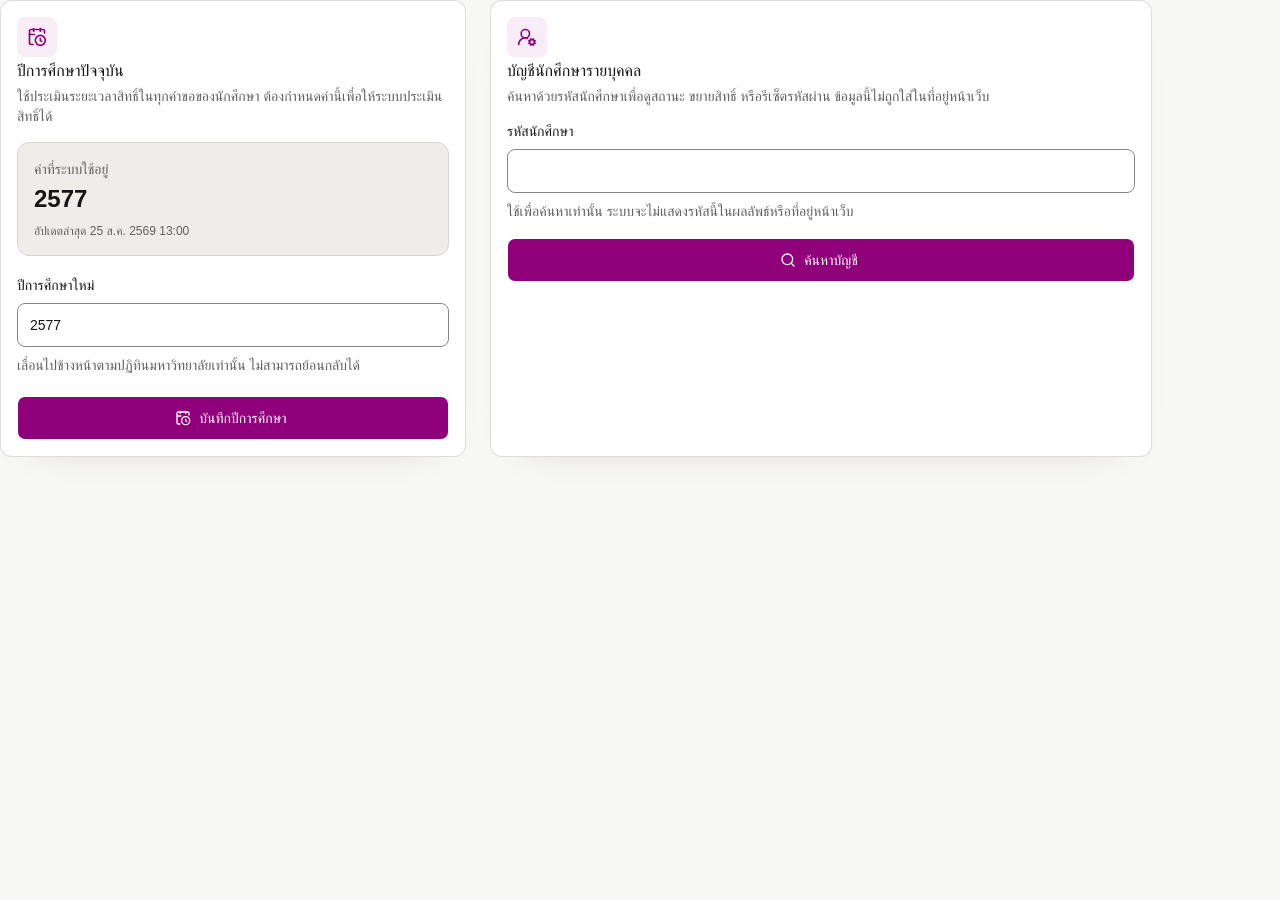
Test: Admin Account controls panel › shows a successful temporary password once as durable copyable text
Type "69000001" into the field labelled "รหัสนักศึกษา" at (821, 171), box [507, 149, 1135, 193]
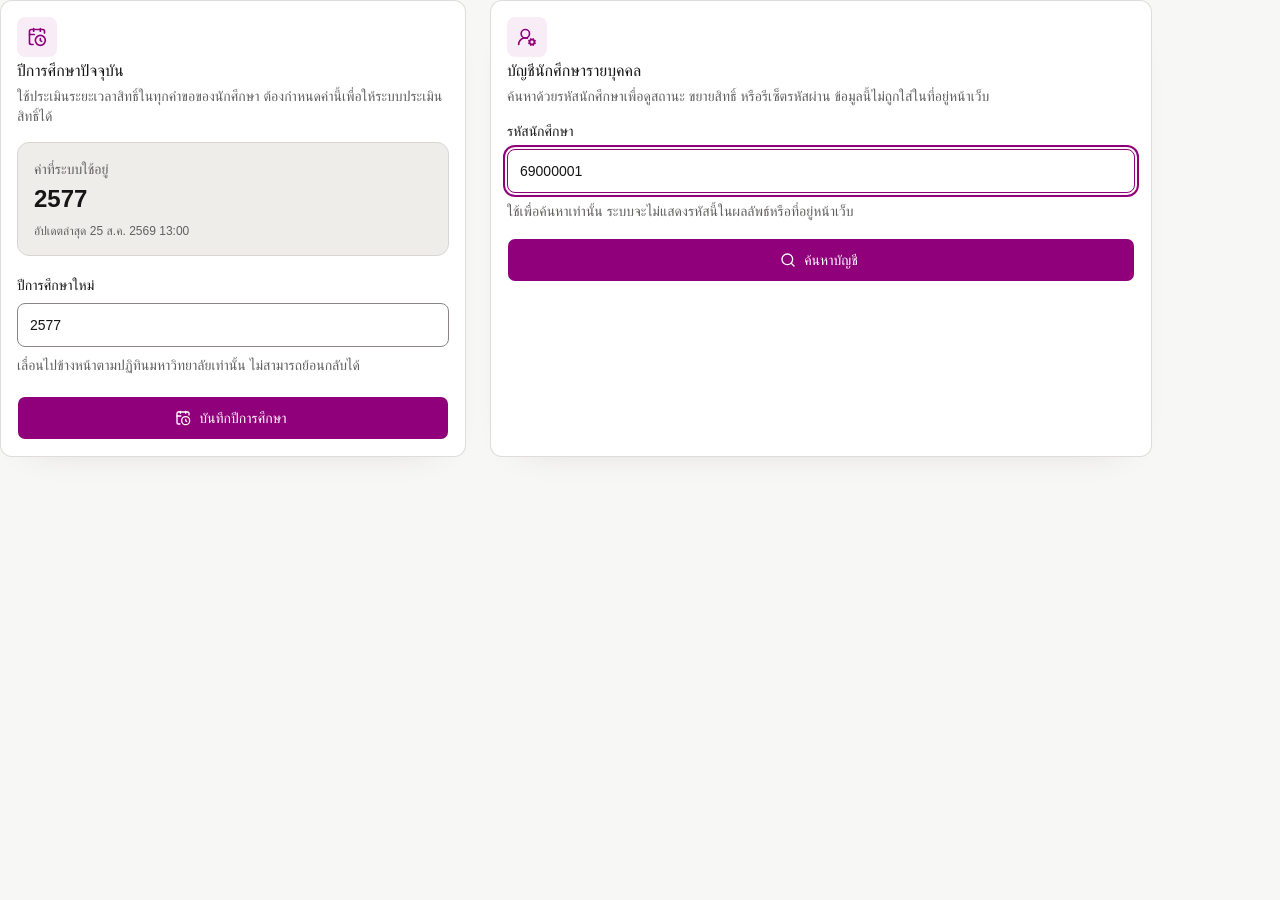
Click the button "ค้นหาบัญชี" at (821, 260), box [507, 238, 1135, 282]
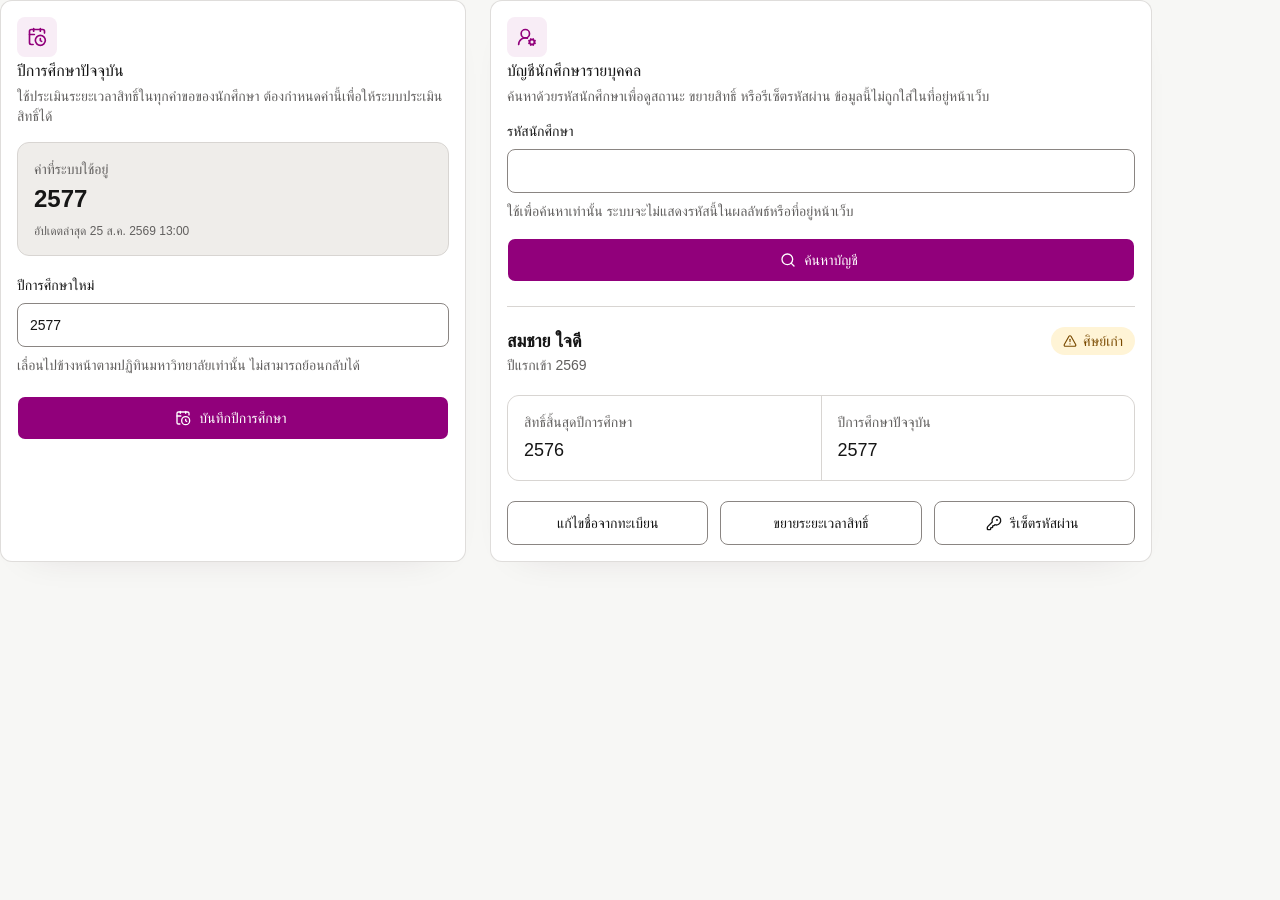
Click the button "รีเซ็ตรหัสผ่าน" at (1034, 523), box [934, 501, 1135, 545]
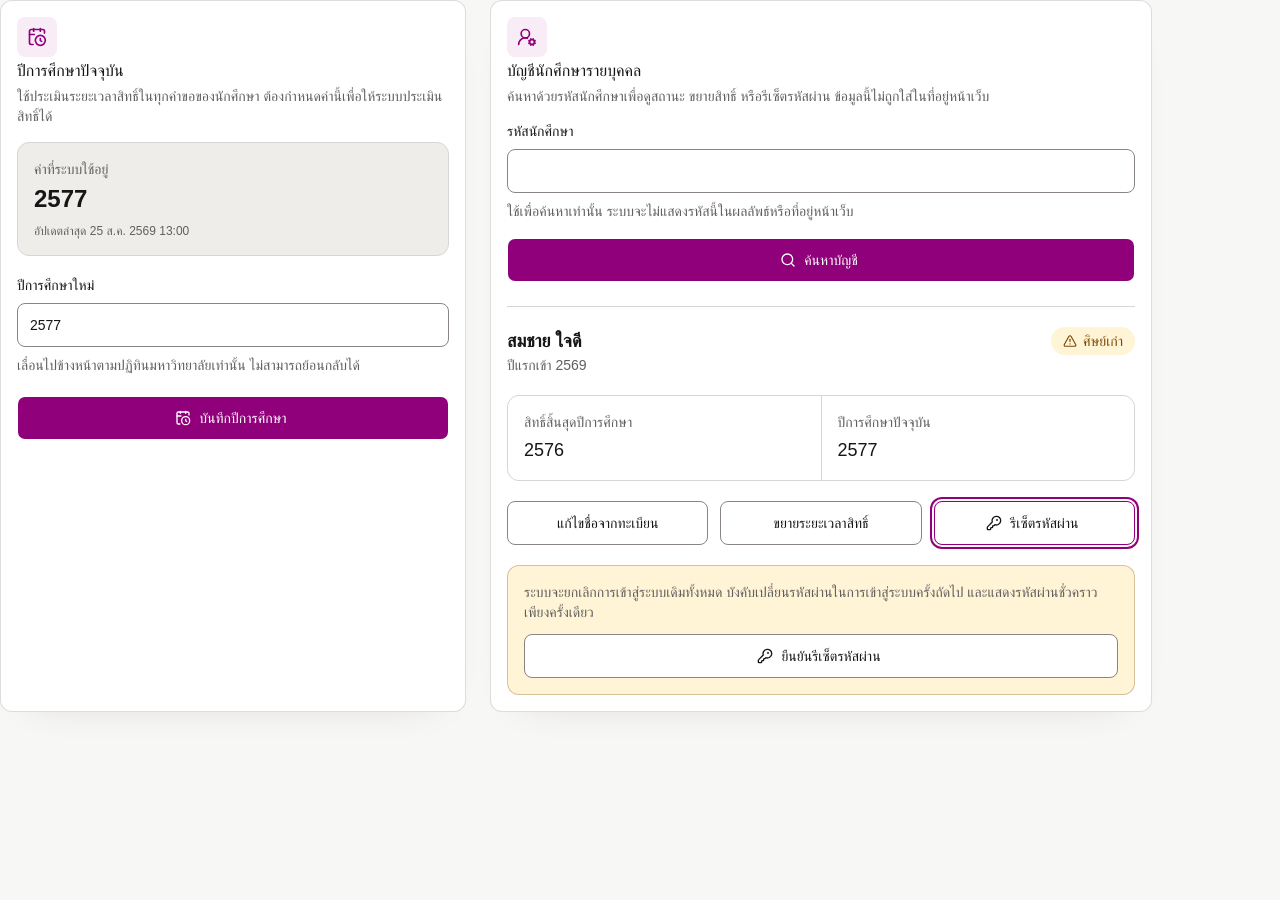
Click the button "ยืนยันรีเซ็ตรหัสผ่าน" at (821, 656), box [524, 634, 1118, 678]
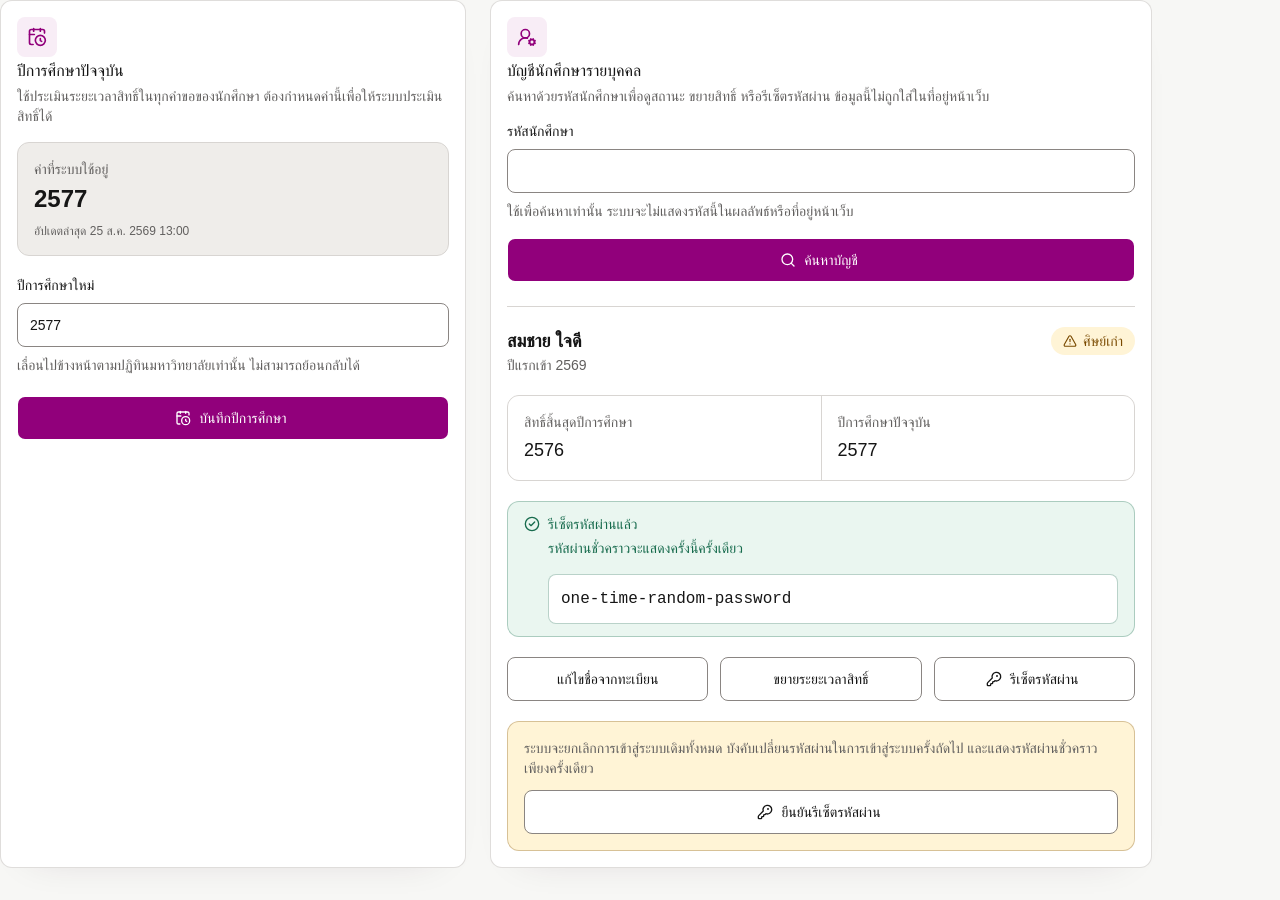
Now the text "one-time-random-password" is shown, box [548, 574, 1118, 624]
Now the text "รหัสผ่านชั่วคราวจะแสดงครั้งนี้ครั้งเดียว" is shown, box [548, 540, 743, 556]
